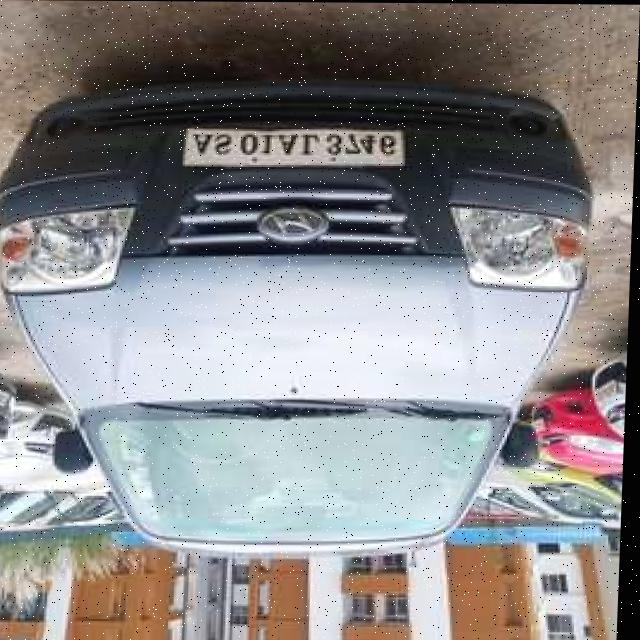plate: (181, 125, 411, 170), (595, 381, 623, 403), (0, 390, 15, 410)
